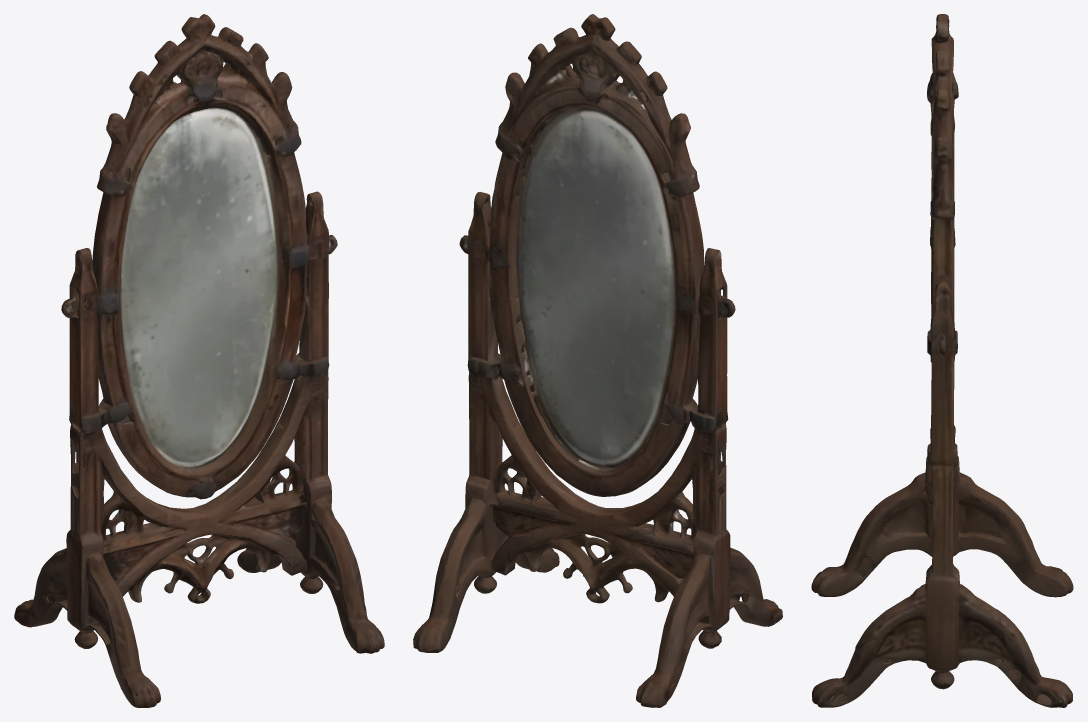
File: obj_study_mirror.glb
3 renders of one model, left to right at view 1: azimuth 30°, elevation 25°; view 2: azimuth 150°, elevation 25°; view 3: azimuth 270°, elevation 25°, orthographic.
Visible parts, largest first — view 1: geometry_0; view 2: geometry_0; view 3: geometry_0.
Part boxes in pixels (box(x1,y1,x2,y2)): geometry_0: box(14, 14, 384, 707); geometry_0: box(413, 14, 782, 707); geometry_0: box(811, 14, 1073, 707).
Size of the model in its own units: 2.03 by 4.38 by 1.65.
1 material, 1 textured.
